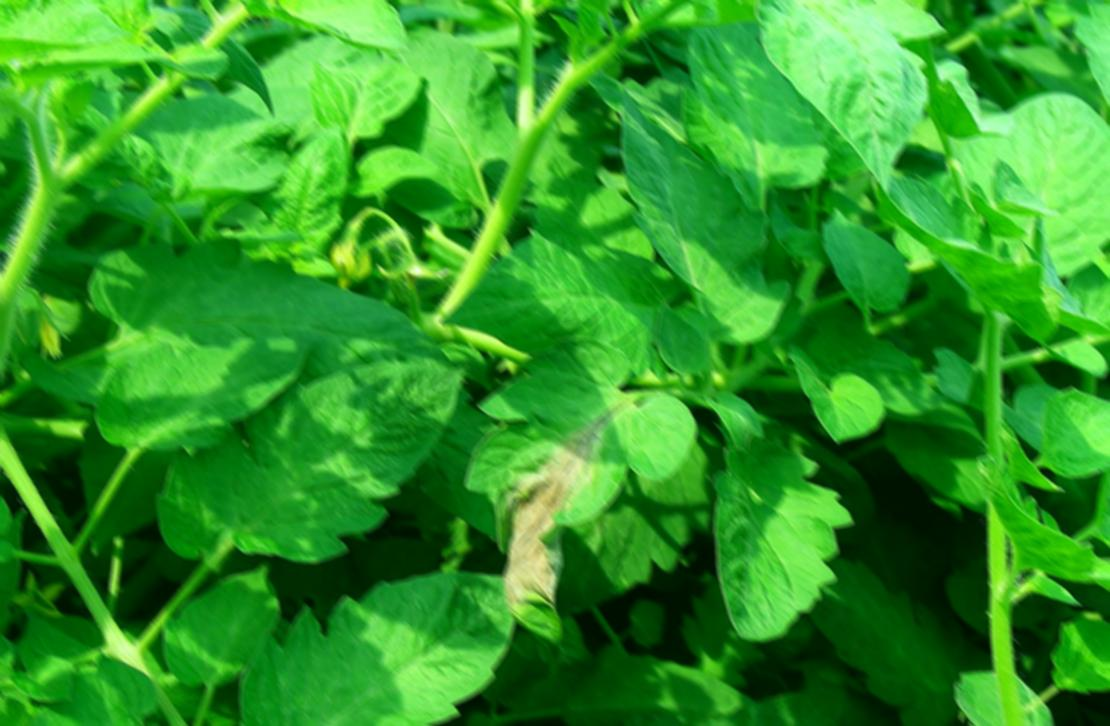Tomato leaf: (160, 349, 465, 597), (597, 74, 791, 376), (232, 583, 521, 726), (707, 406, 856, 651), (687, 0, 832, 242), (104, 310, 294, 473), (968, 83, 1110, 276), (156, 561, 286, 693), (252, 0, 420, 48)
Tomato leaf late blight: (469, 368, 684, 583)
